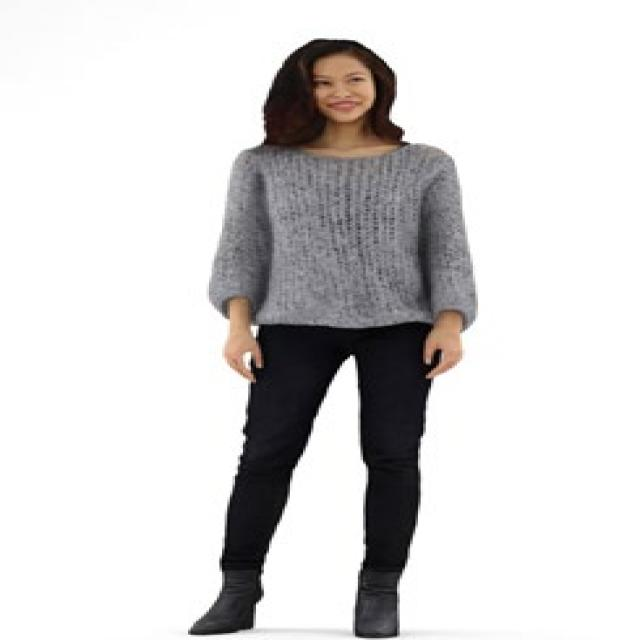standing: (183, 36, 486, 637)
